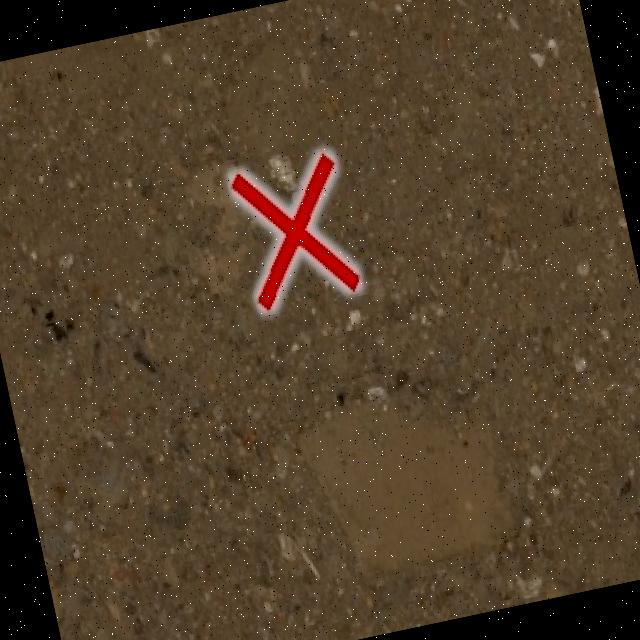x_marker: (228, 150, 359, 310)
